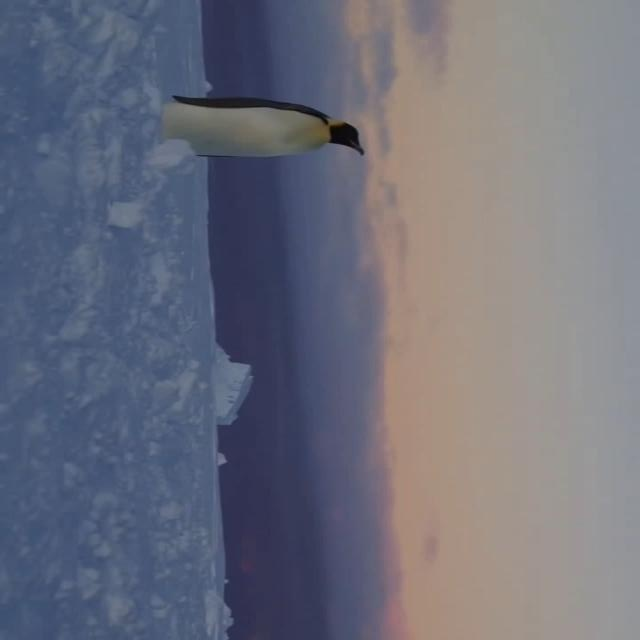penguin: (158, 95, 365, 161)
